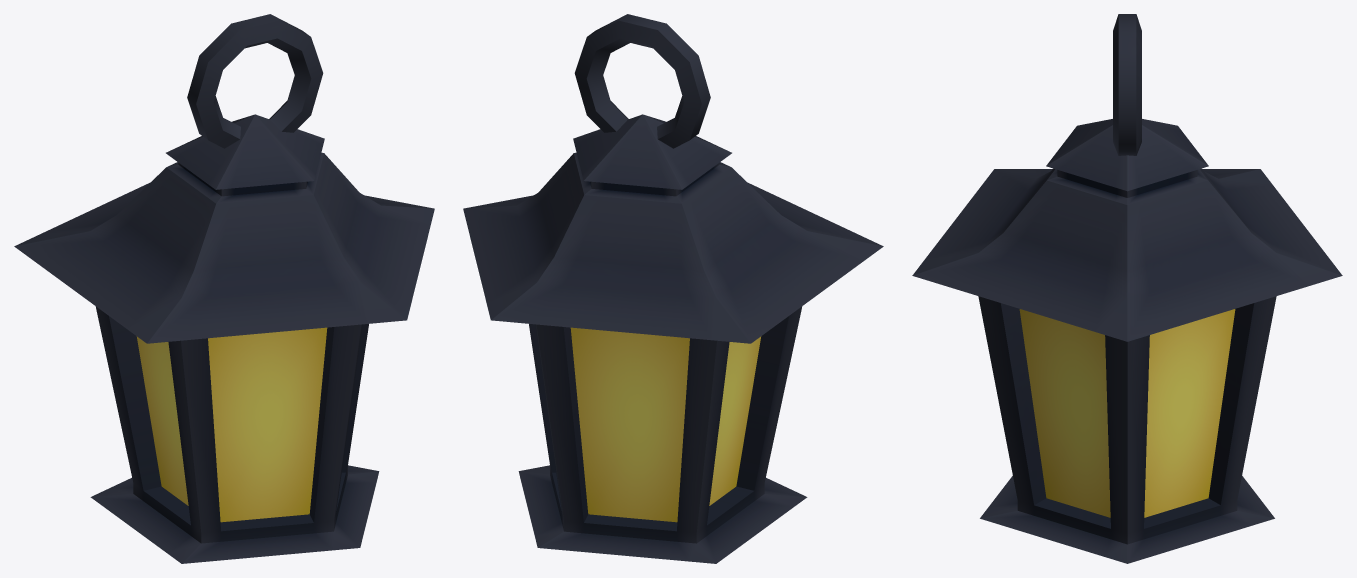
File: SM_Lantern_PlayerCharacter_V1-0.fbx
3 views of the same model, side by side, from view 1: azimuth 30°, elevation 25°; view 2: azimuth 150°, elevation 25°; view 3: azimuth 270°, elevation 25° (orthographic).
Parts seen in each view (by area): view 1: SM_Lantern; view 2: SM_Lantern; view 3: SM_Lantern.
Boxes of the visible parts, x1,y1,x2,y2 form: SM_Lantern: [14, 14, 434, 563]; SM_Lantern: [463, 14, 883, 563]; SM_Lantern: [912, 14, 1342, 563].
Size of the model in its own units: 2.91 by 4.19 by 3.06.
1 material, 1 textured.
